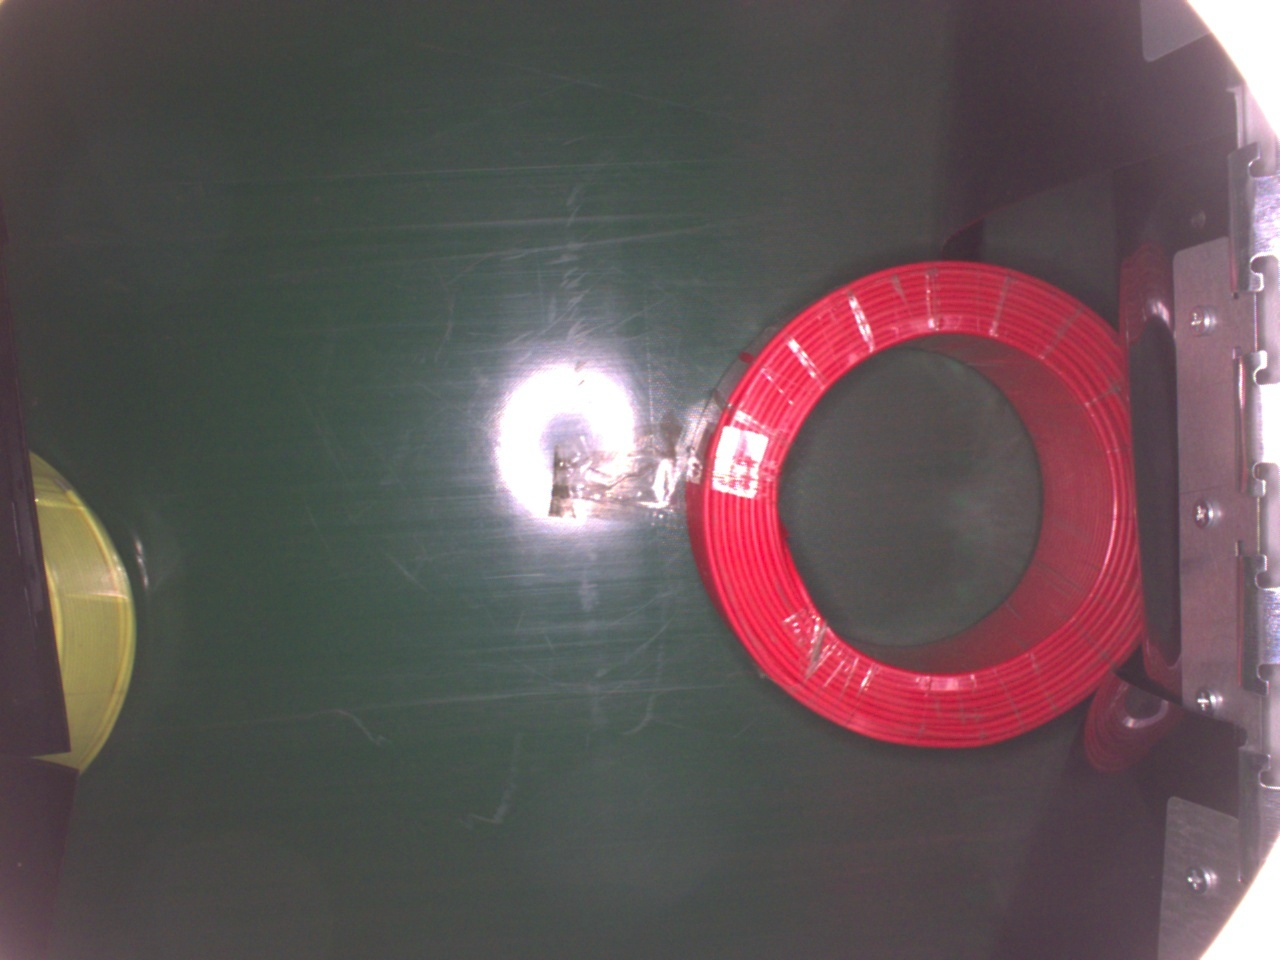red: (689, 257, 1146, 749)
